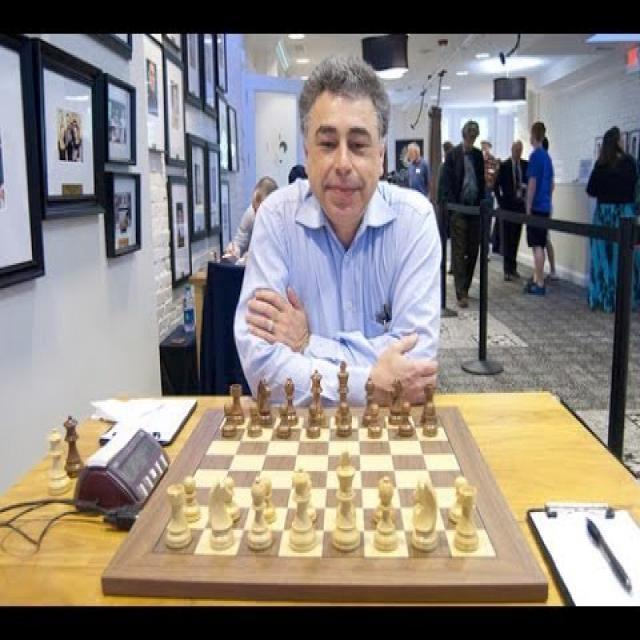chess-table-corners: (136, 532, 164, 566), (484, 540, 507, 572)
